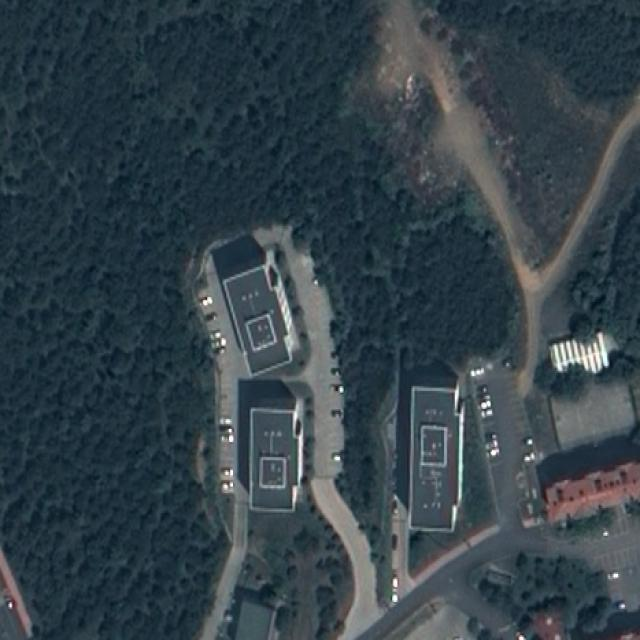Batiment: (212, 236, 296, 374), (238, 379, 302, 512), (409, 384, 464, 532), (548, 463, 640, 521)
